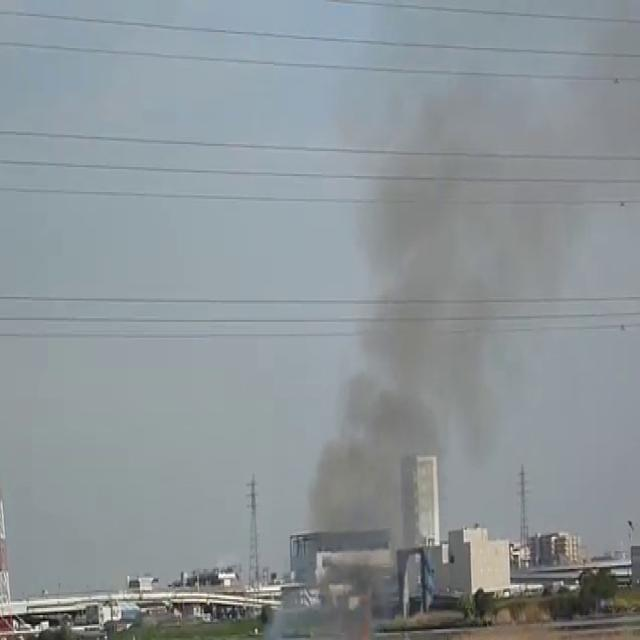Smoke: (266, 9, 638, 631)
